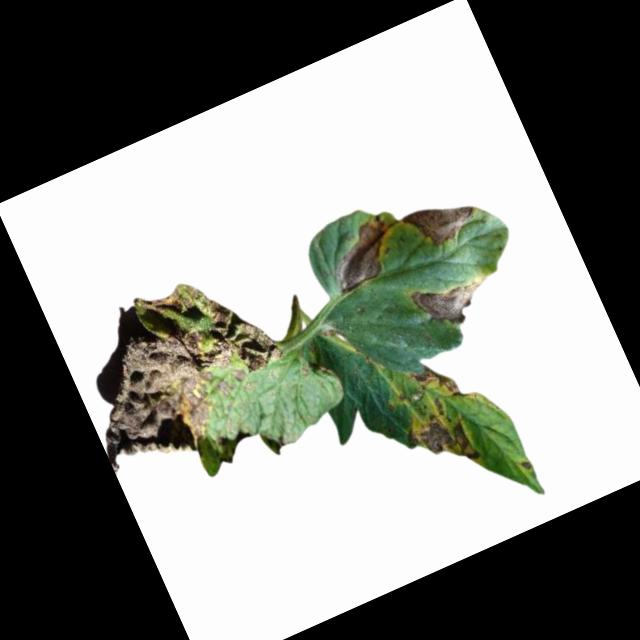Early_blight: (53, 252, 308, 489), (397, 397, 483, 487), (320, 214, 408, 295), (407, 263, 495, 340), (400, 189, 482, 257), (407, 357, 464, 412), (517, 457, 535, 475)
